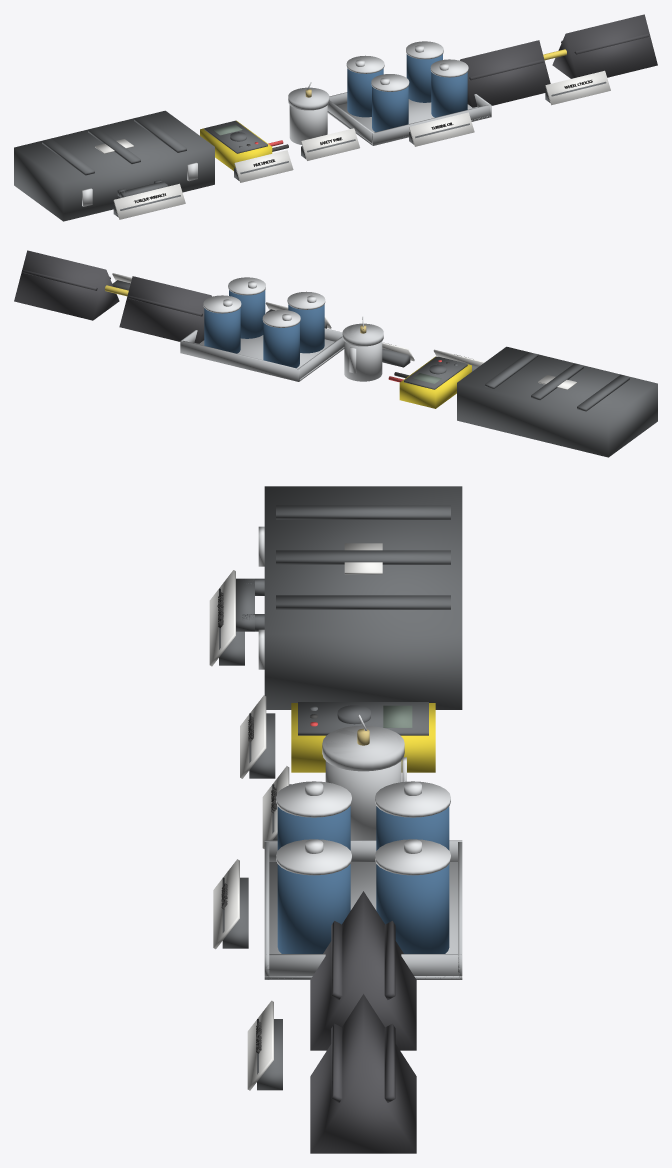
Rendered from aircraftequipment.fbx.
3 renders of one model, top to bottom at view 1: azimuth 30°, elevation 25°; view 2: azimuth 150°, elevation 25°; view 3: azimuth 270°, elevation 25°, orthographic. The views are drawn at different scales.
Parts seen in each view (by area): view 1: Prop_TorqueWrench_Case, Prop_OilCans_SpillTray, Prop_Aero_WheelChocks, Prop_Digital_Multimeter, Prop_SafetyWire_Canister; view 2: Prop_TorqueWrench_Case, Prop_OilCans_SpillTray, Prop_Aero_WheelChocks, Prop_Digital_Multimeter, Prop_SafetyWire_Canister; view 3: Prop_TorqueWrench_Case, Prop_OilCans_SpillTray, Prop_Aero_WheelChocks, Prop_Digital_Multimeter, Prop_SafetyWire_Canister.
Boxes of the visible parts, x1=… form: Prop_TorqueWrench_Case: x1=14, y1=110, x2=214, y2=221; Prop_OilCans_SpillTray: x1=327, y1=41, x2=491, y2=146; Prop_Aero_WheelChocks: x1=460, y1=14, x2=657, y2=107; Prop_Digital_Multimeter: x1=200, y1=120, x2=293, y2=182; Prop_SafetyWire_Canister: x1=288, y1=82, x2=359, y2=160; Prop_TorqueWrench_Case: x1=457, y1=346, x2=657, y2=457; Prop_OilCans_SpillTray: x1=180, y1=277, x2=344, y2=381; Prop_Aero_WheelChocks: x1=14, y1=250, x2=211, y2=343; Prop_Digital_Multimeter: x1=388, y1=349, x2=484, y2=408; Prop_SafetyWire_Canister: x1=342, y1=316, x2=414, y2=381; Prop_TorqueWrench_Case: x1=209, y1=486, x2=462, y2=709; Prop_OilCans_SpillTray: x1=213, y1=781, x2=462, y2=979; Prop_Aero_WheelChocks: x1=247, y1=891, x2=416, y2=1153; Prop_Digital_Multimeter: x1=240, y1=695, x2=435, y2=778; Prop_SafetyWire_Canister: x1=262, y1=714, x2=406, y2=848.
Size of the model in its own units: 184 by 16.26 by 33.24.
